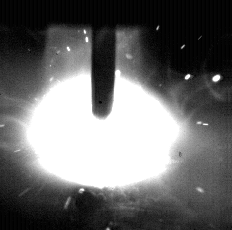arame: (92, 0, 116, 120)
poca: (25, 0, 184, 230)
